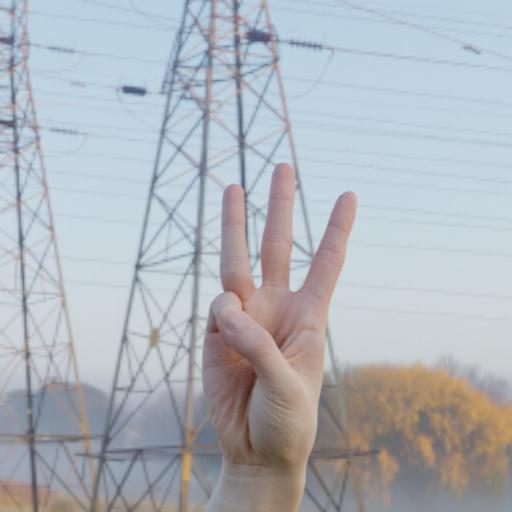W: (182, 157, 362, 481)
